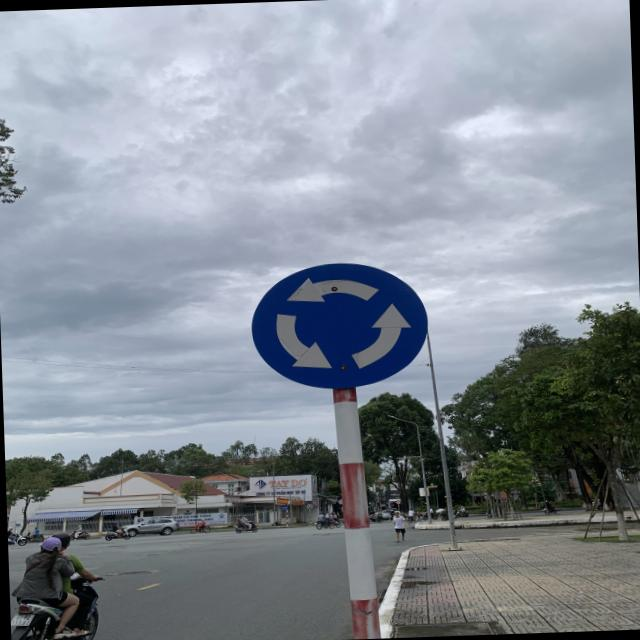Xe_Bus: (247, 257, 430, 395)
